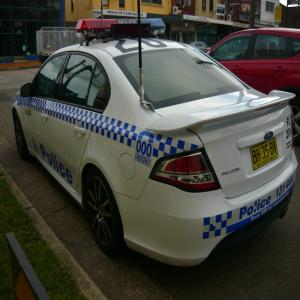Vehicle-registration-plate: (254, 137, 281, 172)
